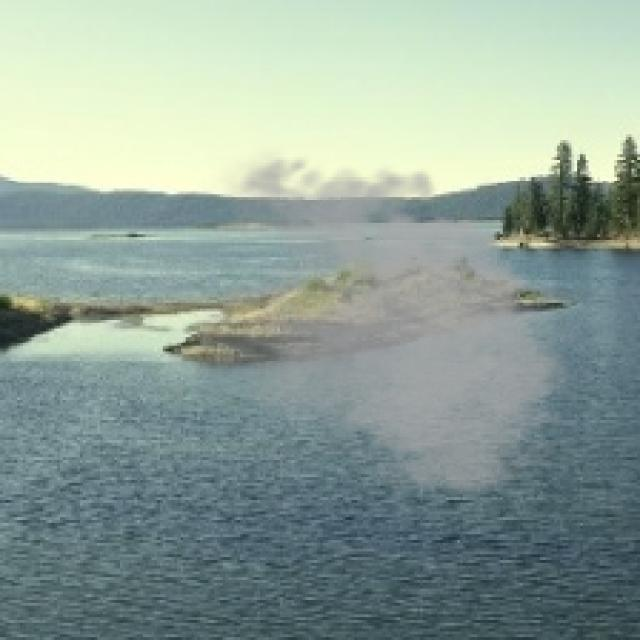Smoke: (194, 146, 583, 503)
